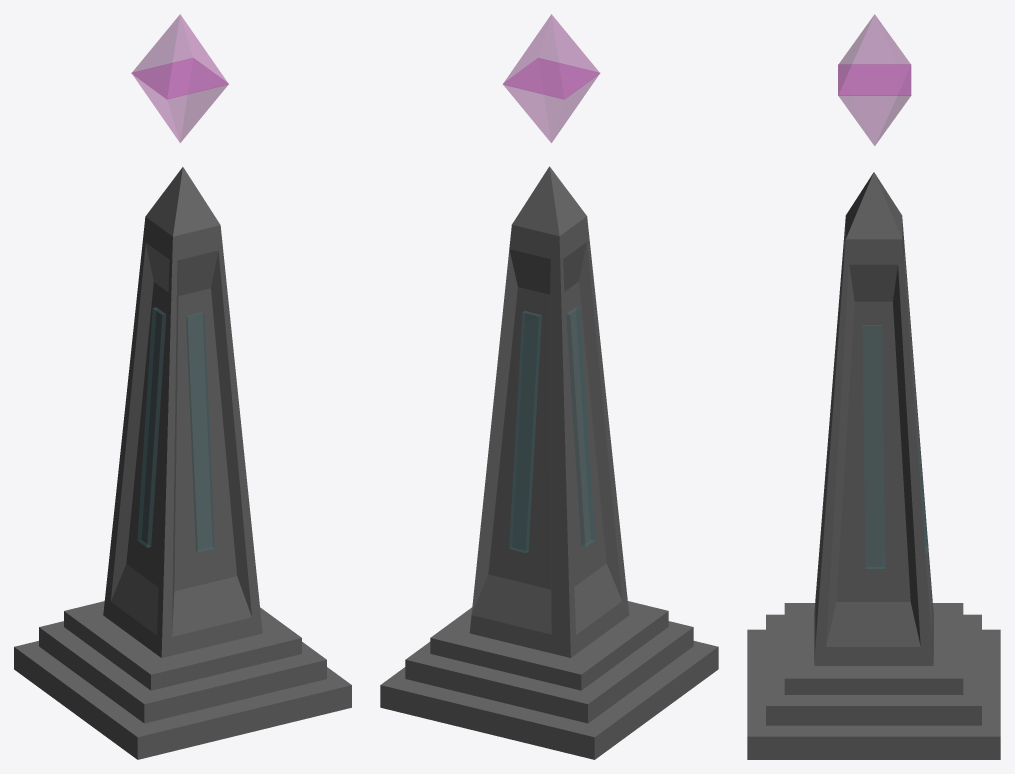
The model's file is column.fbx.
3 renders of one model, left to right at view 1: azimuth 30°, elevation 25°; view 2: azimuth 150°, elevation 25°; view 3: azimuth 270°, elevation 25°, orthographic. The views are drawn at different scales.
Visible parts, largest first — view 1: pCube4, pCube2, pCube1, pCube3, pCube11, pCube7, pCube5; view 2: pCube4, pCube2, pCube1, pCube3, pCube11, pCube6, pCube5; view 3: pCube4, pCube2, pCube1, pCube3, pCube11, pCube8.
Boxes of the visible parts, bbox=[...] form: pCube4: bbox=[103, 167, 262, 657]; pCube2: bbox=[14, 641, 351, 759]; pCube1: bbox=[39, 621, 326, 723]; pCube3: bbox=[64, 601, 301, 690]; pCube11: bbox=[131, 14, 228, 142]; pCube7: bbox=[186, 312, 214, 551]; pCube5: bbox=[137, 307, 165, 547]; pCube4: bbox=[469, 166, 629, 657]; pCube2: bbox=[380, 641, 718, 759]; pCube1: bbox=[405, 621, 693, 723]; pCube3: bbox=[430, 601, 668, 690]; pCube11: bbox=[503, 14, 600, 142]; pCube6: bbox=[509, 311, 541, 552]; pCube5: bbox=[566, 307, 594, 547]; pCube4: bbox=[814, 172, 933, 665]; pCube2: bbox=[747, 629, 1000, 759]; pCube1: bbox=[766, 614, 981, 725]; pCube3: bbox=[784, 603, 963, 694]; pCube11: bbox=[838, 14, 911, 145]; pCube8: bbox=[862, 325, 885, 568].
Bounding box in the file's own units: 2.54 × 7.65 × 2.54.
